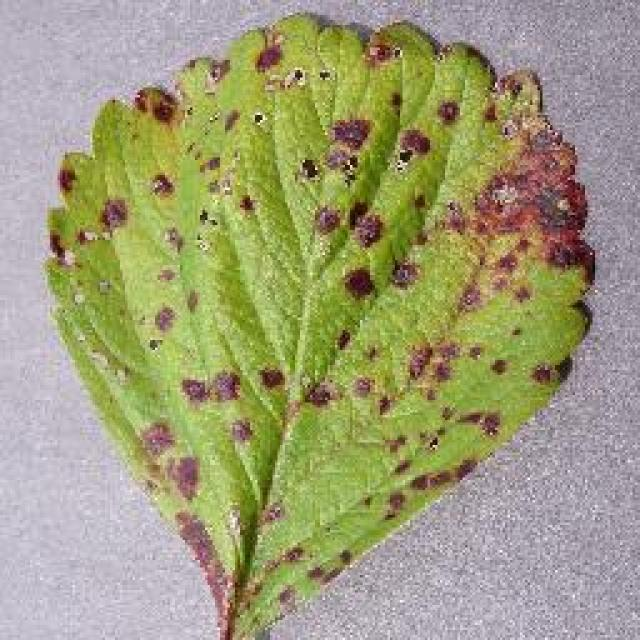Strawberry leaf scorch: (147, 89, 515, 414)
